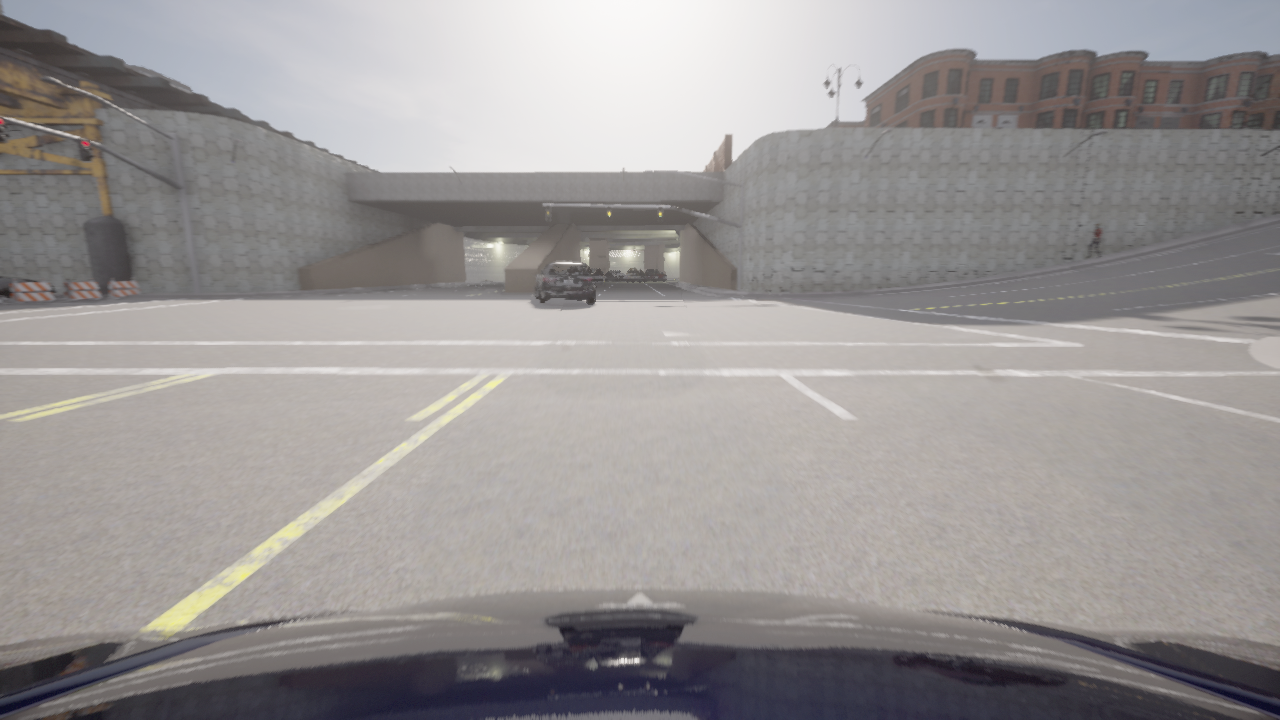cyclist: (0, 588, 1279, 719), (534, 261, 594, 304), (0, 276, 55, 298), (584, 264, 595, 288), (626, 268, 645, 281), (605, 271, 625, 281), (645, 270, 665, 280), (590, 269, 602, 285), (635, 279, 637, 280)
pedestrian: (1085, 223, 1102, 258)
